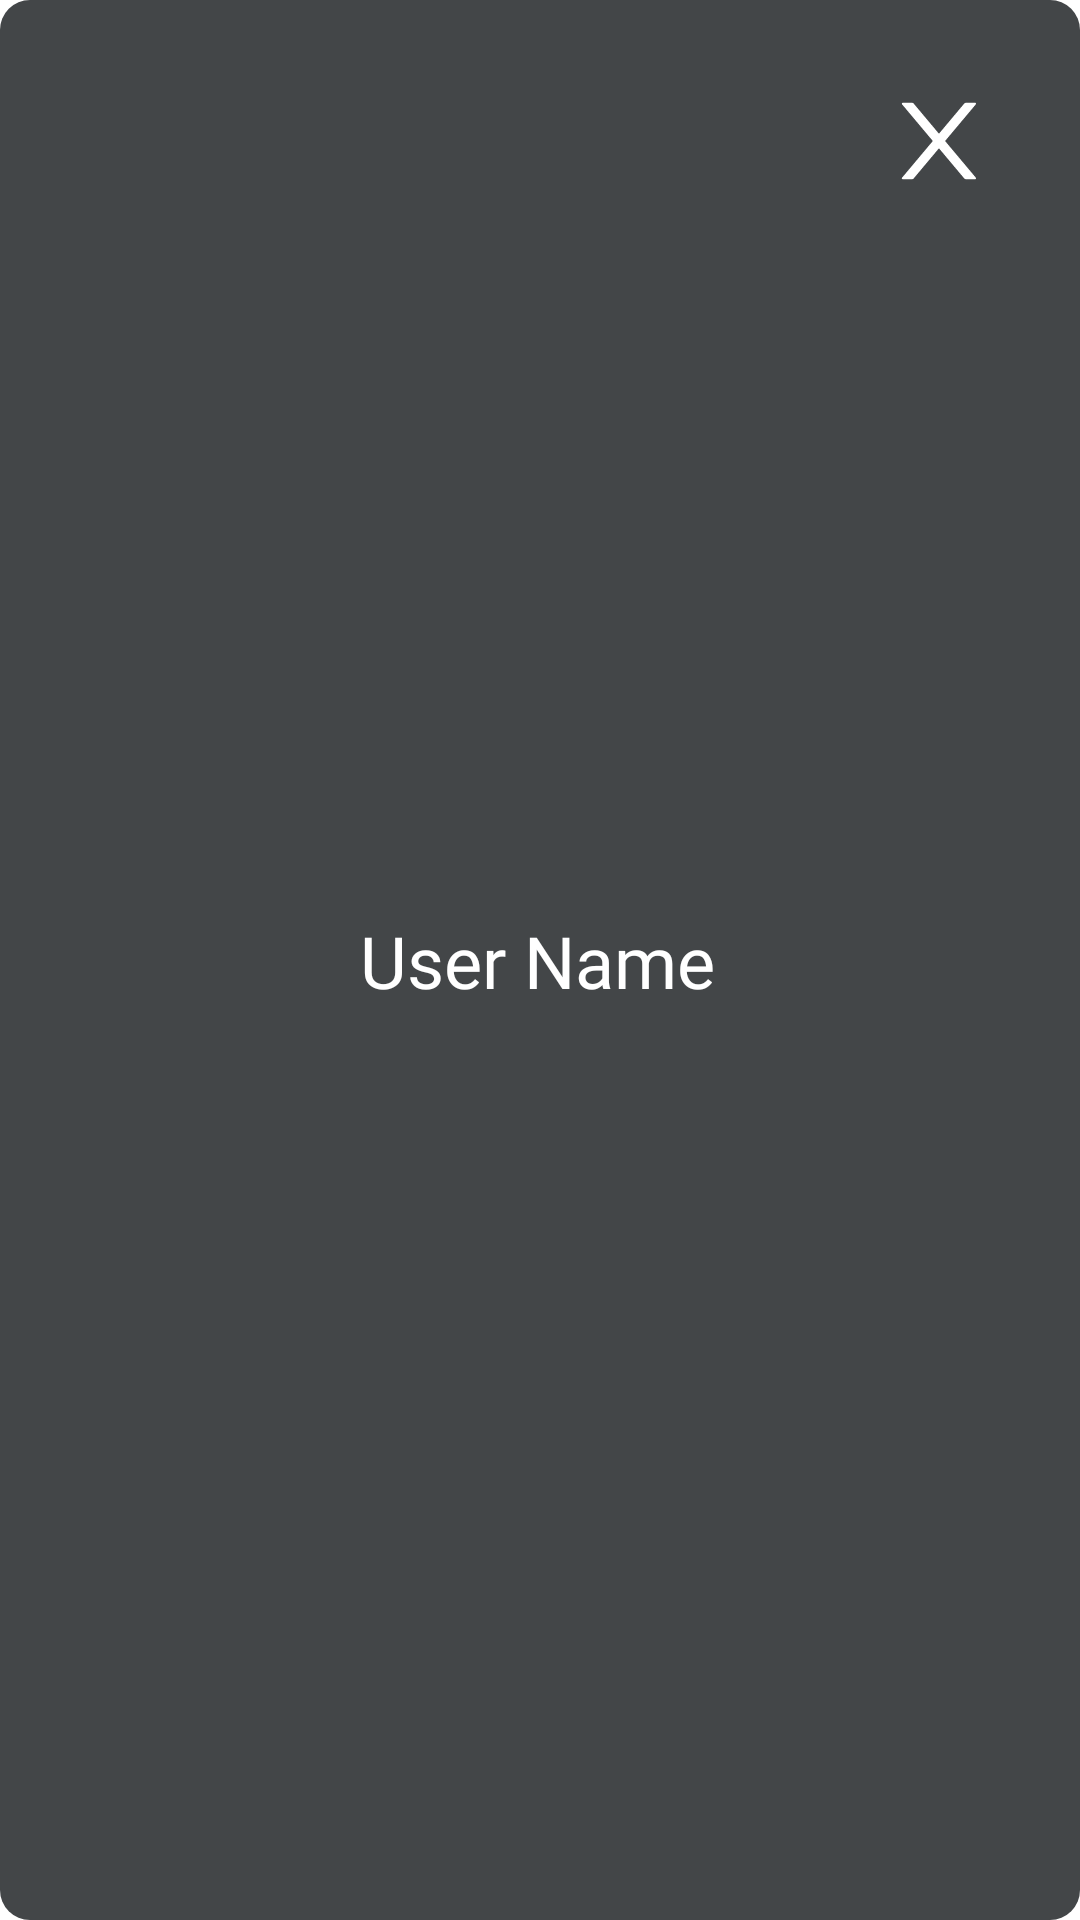

Icons on this 1080px x 1920px Android screen, each with the point to tap as (x,y):
Close image: (939,141)
